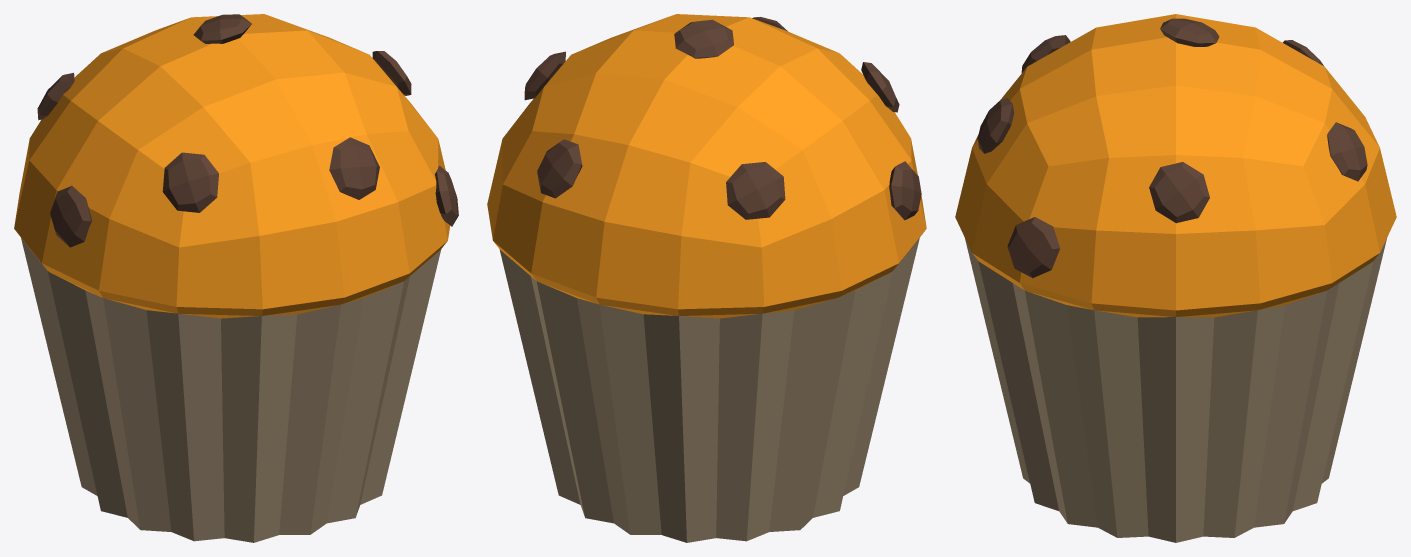
File: Muffin.fbx
3 renders of one model, left to right at view 1: azimuth 30°, elevation 25°; view 2: azimuth 150°, elevation 25°; view 3: azimuth 270°, elevation 25°, orthographic.
Visible parts, largest first — view 1: Muffin; view 2: Muffin; view 3: Muffin.
Part boxes in pixels (x1,y1,x2,y2): Muffin: (14, 14, 458, 542); Muffin: (487, 14, 926, 542); Muffin: (955, 14, 1396, 542).
Size of the model in its own units: 7.52 by 8.54 by 7.52.
